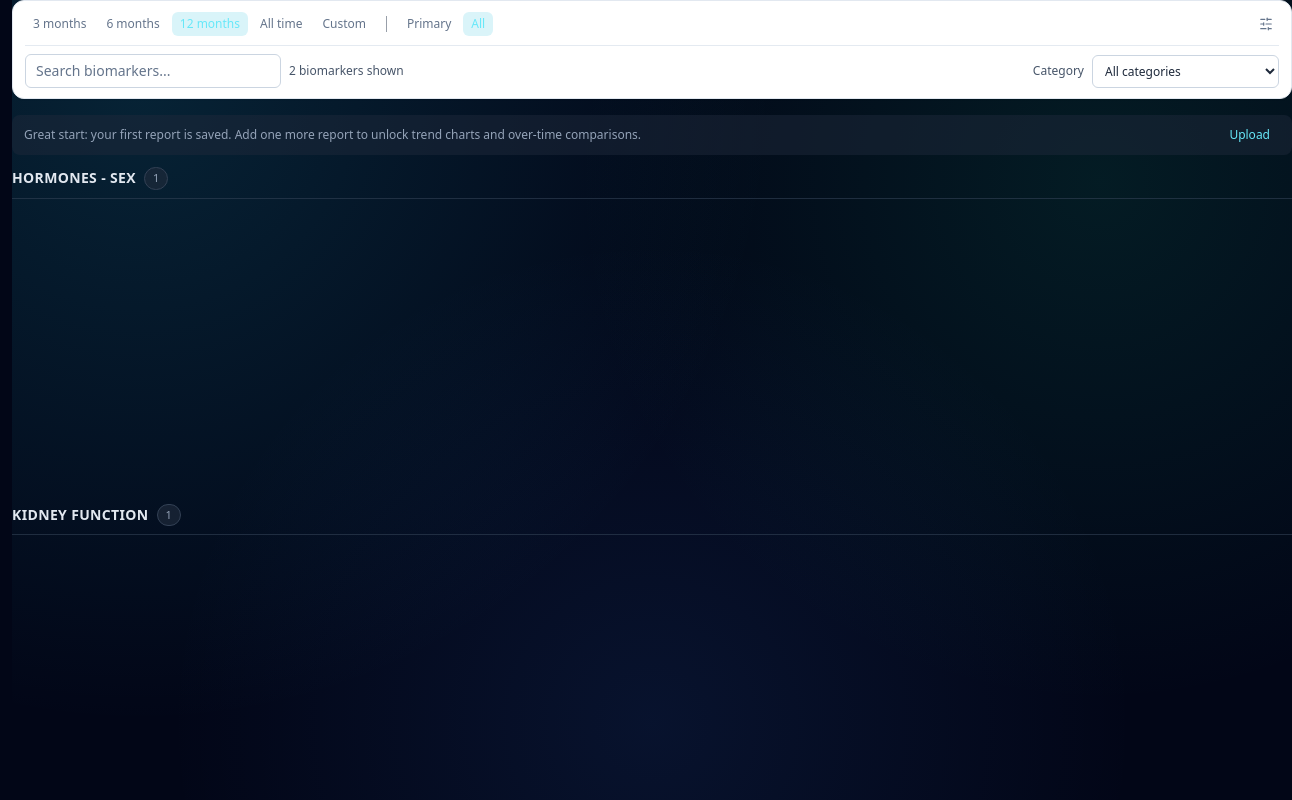
DashboardView chart controls › shows category and search filters in All view and filters marker cards
Expected: the search field labelled "Search biomarker" is shown, [25,54,281,88]
Step 1. Select "Liver, kidney & electrolytes" in the dropdown named "Marker category" → (1186, 71), box [1092,54,1279,88]
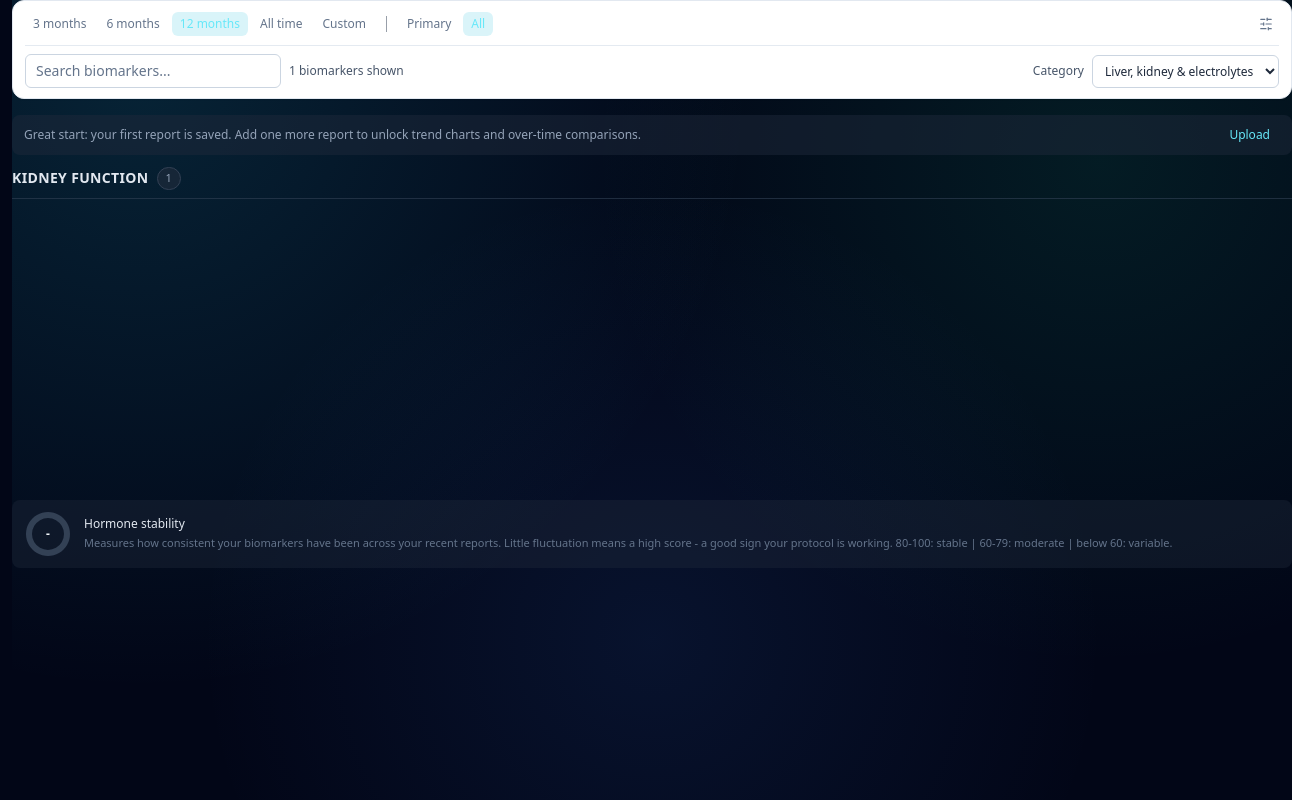
Step 2. Type "test" into the search field labelled "Search biomarker" → (153, 71), box [25,54,281,88]
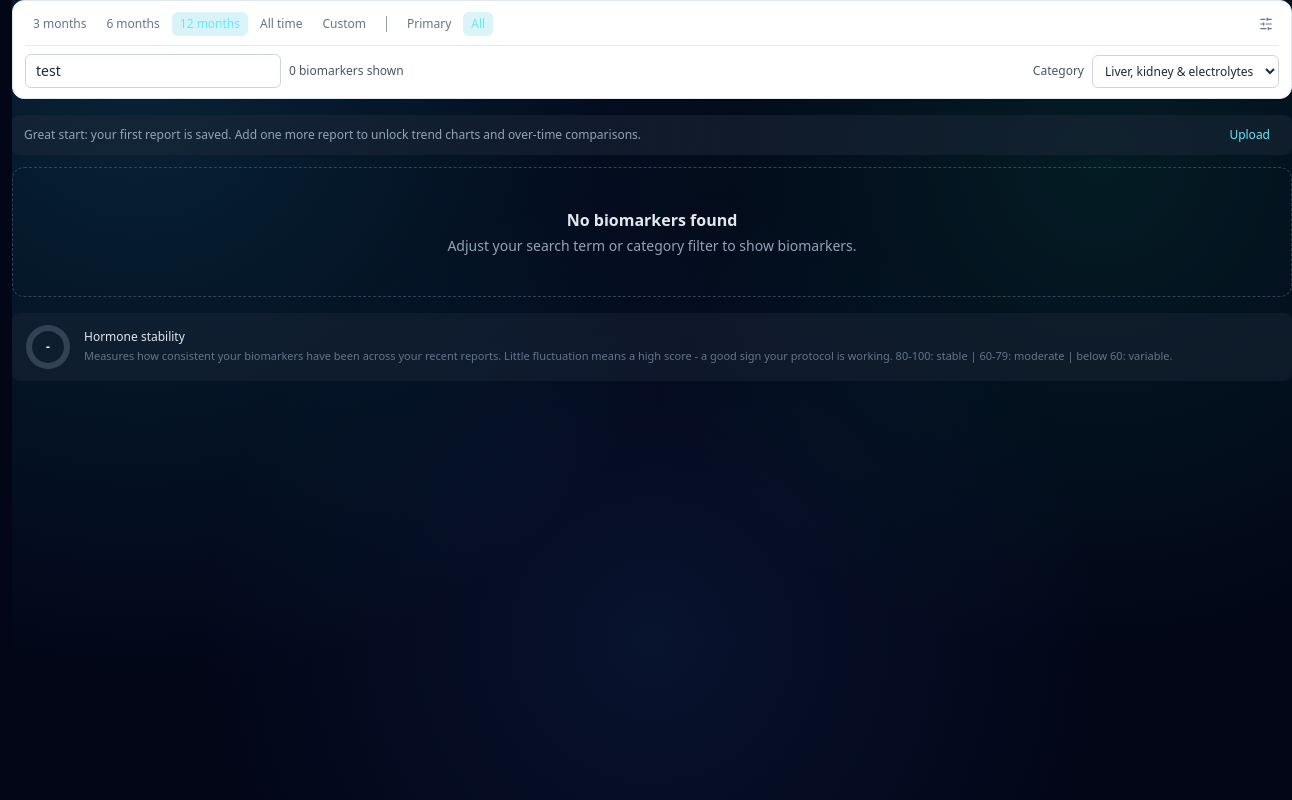
Result: the text "No biomarkers found" is shown at [567,209,737,231]
